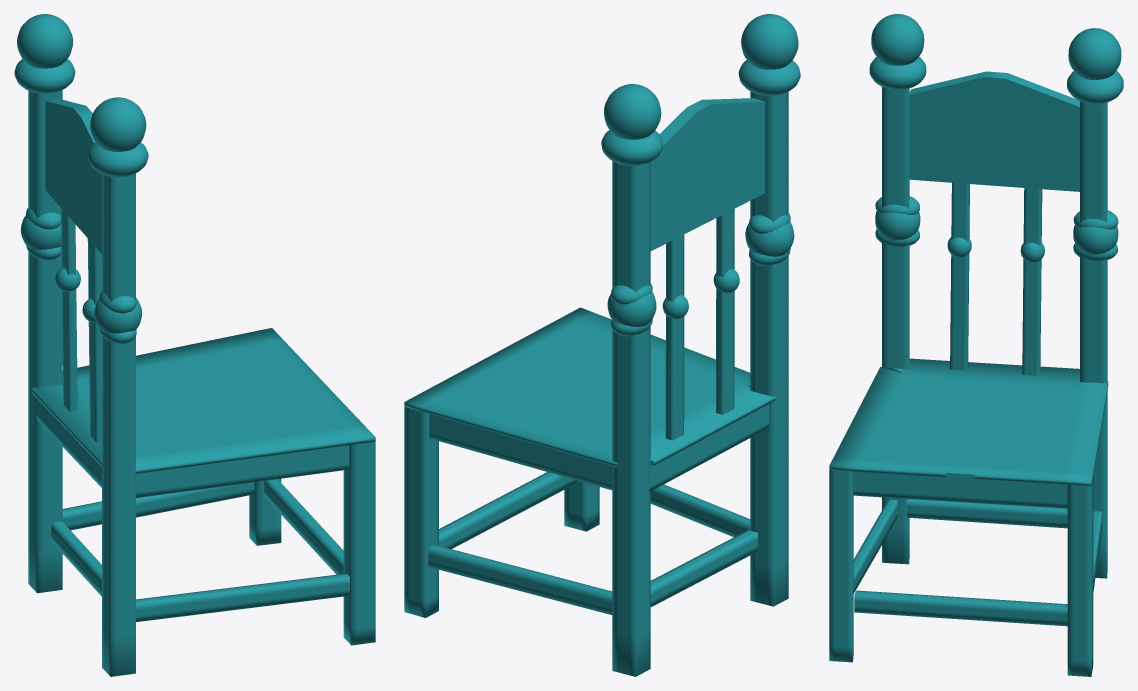
File: silla.obj
The picture shows the model from 3 angles, left to right: view 1: azimuth 30°, elevation 25°; view 2: azimuth 150°, elevation 25°; view 3: azimuth 270°, elevation 25°; orthographic projection. The views are drawn at different scales.
Visible parts, largest first — view 1: polySurface605; view 2: polySurface605; view 3: polySurface605.
Boxes of the visible parts, x1=… form: polySurface605: x1=14, y1=14, x2=375, y2=676; polySurface605: x1=404, y1=14, x2=800, y2=676; polySurface605: x1=829, y1=14, x2=1123, y2=676.
Bounding box in the file's own units: 2.08 × 4.01 × 1.98.
Materials: 1 (1 with a texture image).
